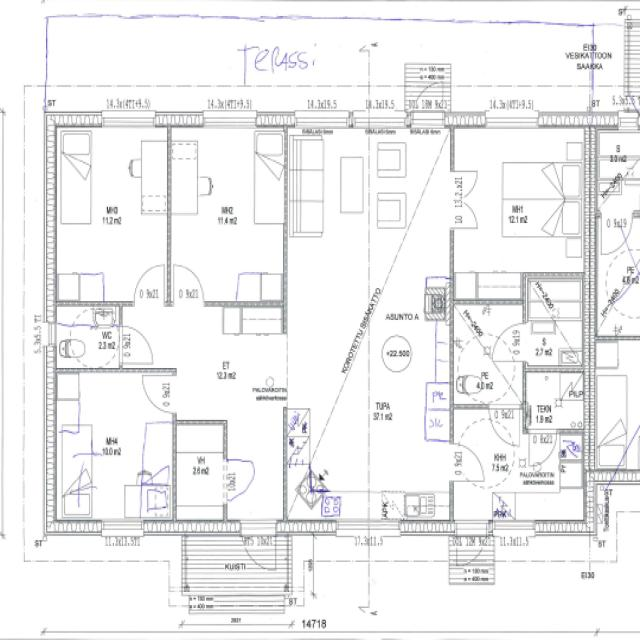door: (241, 520, 276, 580), (411, 68, 445, 127), (456, 520, 488, 576), (491, 322, 528, 362), (223, 461, 260, 501), (488, 404, 520, 447), (450, 444, 485, 482), (119, 326, 153, 364), (134, 264, 164, 306), (174, 264, 204, 306), (143, 376, 176, 412), (528, 428, 556, 468), (450, 170, 478, 200), (450, 200, 478, 228)
